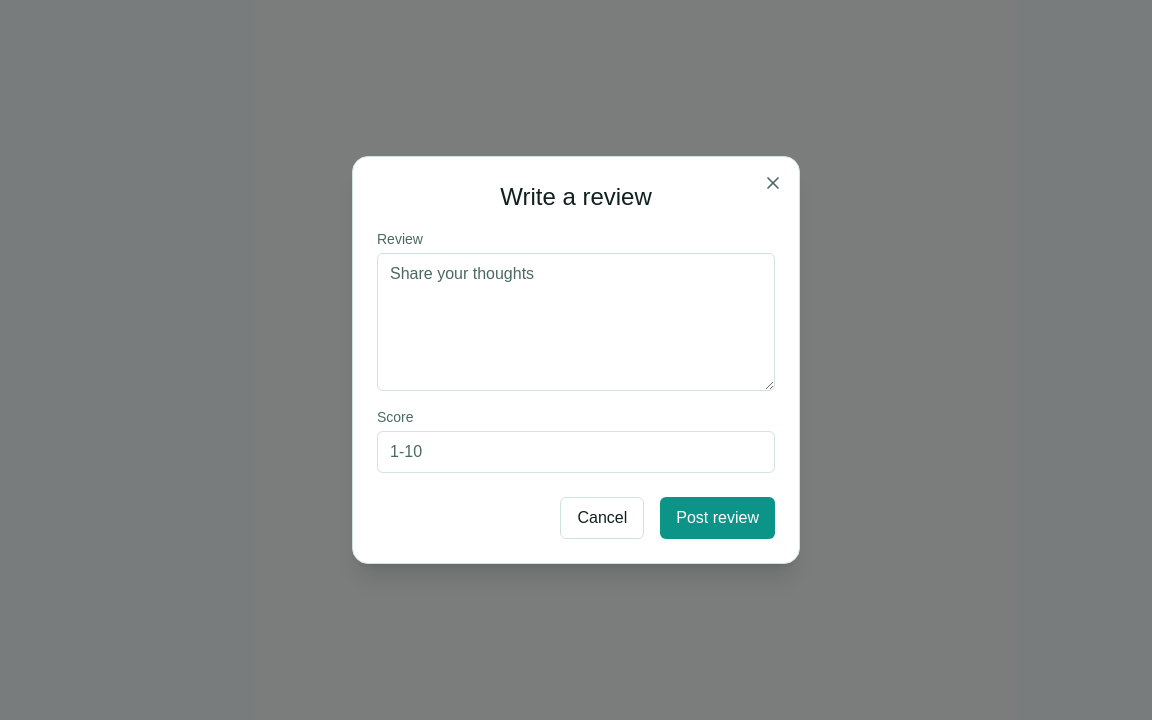
Test: ReviewForm › shows returned issues and keeps the dialog open on failure
This screenshot has width=1152, height=720.
Type "8" into the number field labelled "Score" at (576, 452), box 377,431 -> 775,473
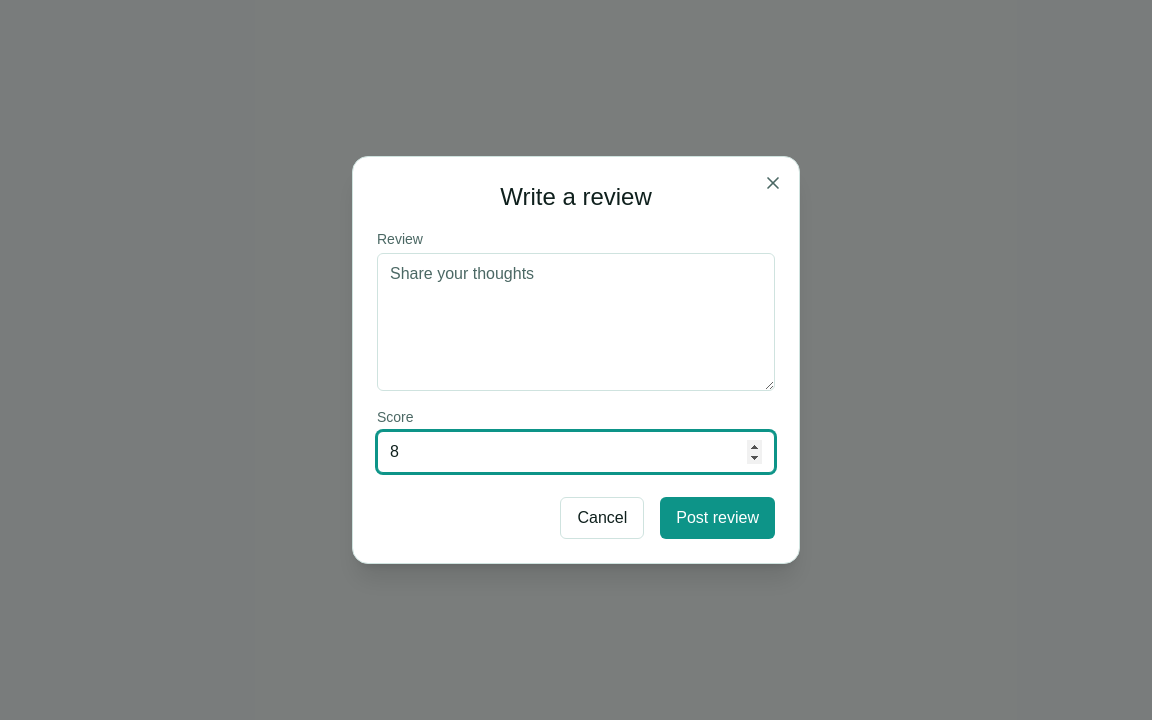
Click the button "Post review" at (718, 518), box 660,497 -> 775,539
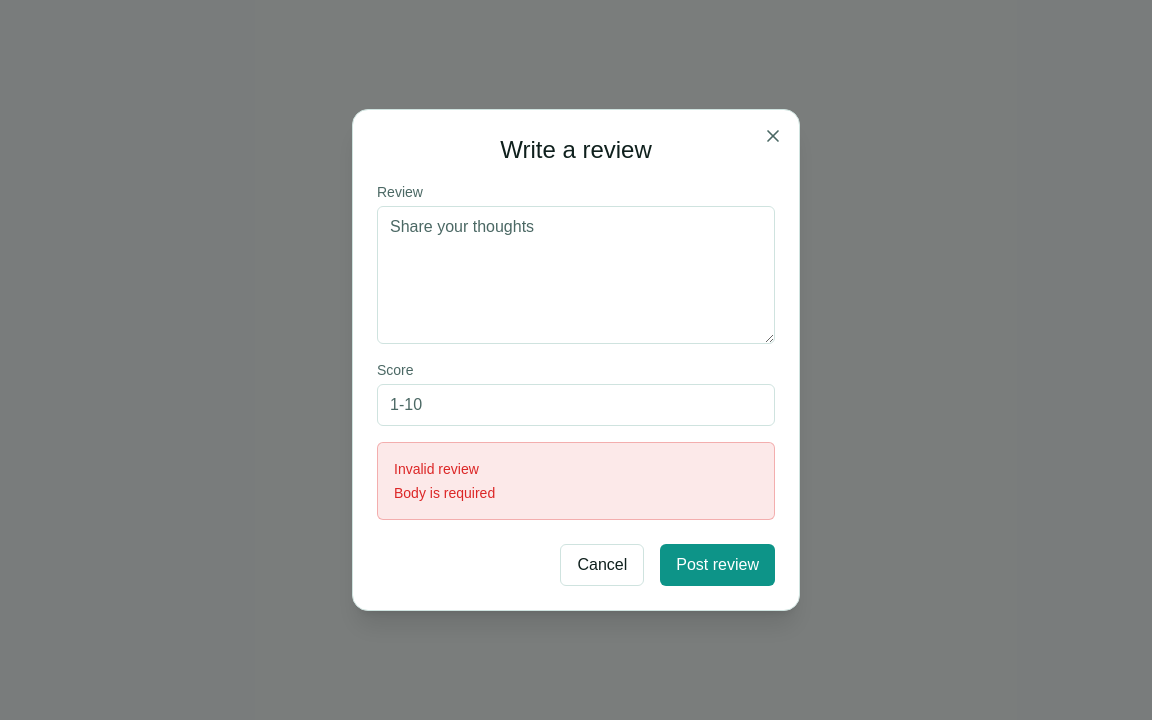
Result: the text "Body is required" is shown at 394,485 -> 495,501
Result: the text "Invalid review" is shown at 394,461 -> 479,477
